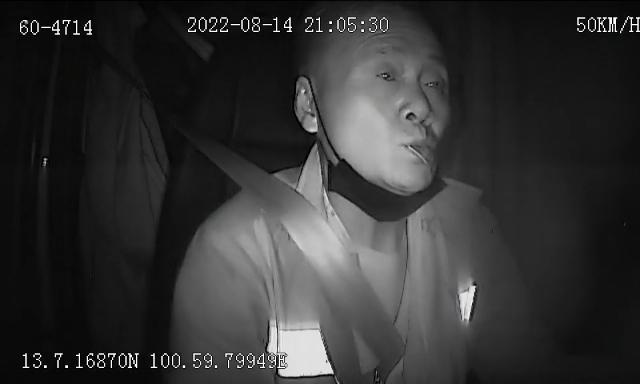SafeDriving: (370, 55, 404, 91)
Seatbelt: (202, 142, 402, 356)
